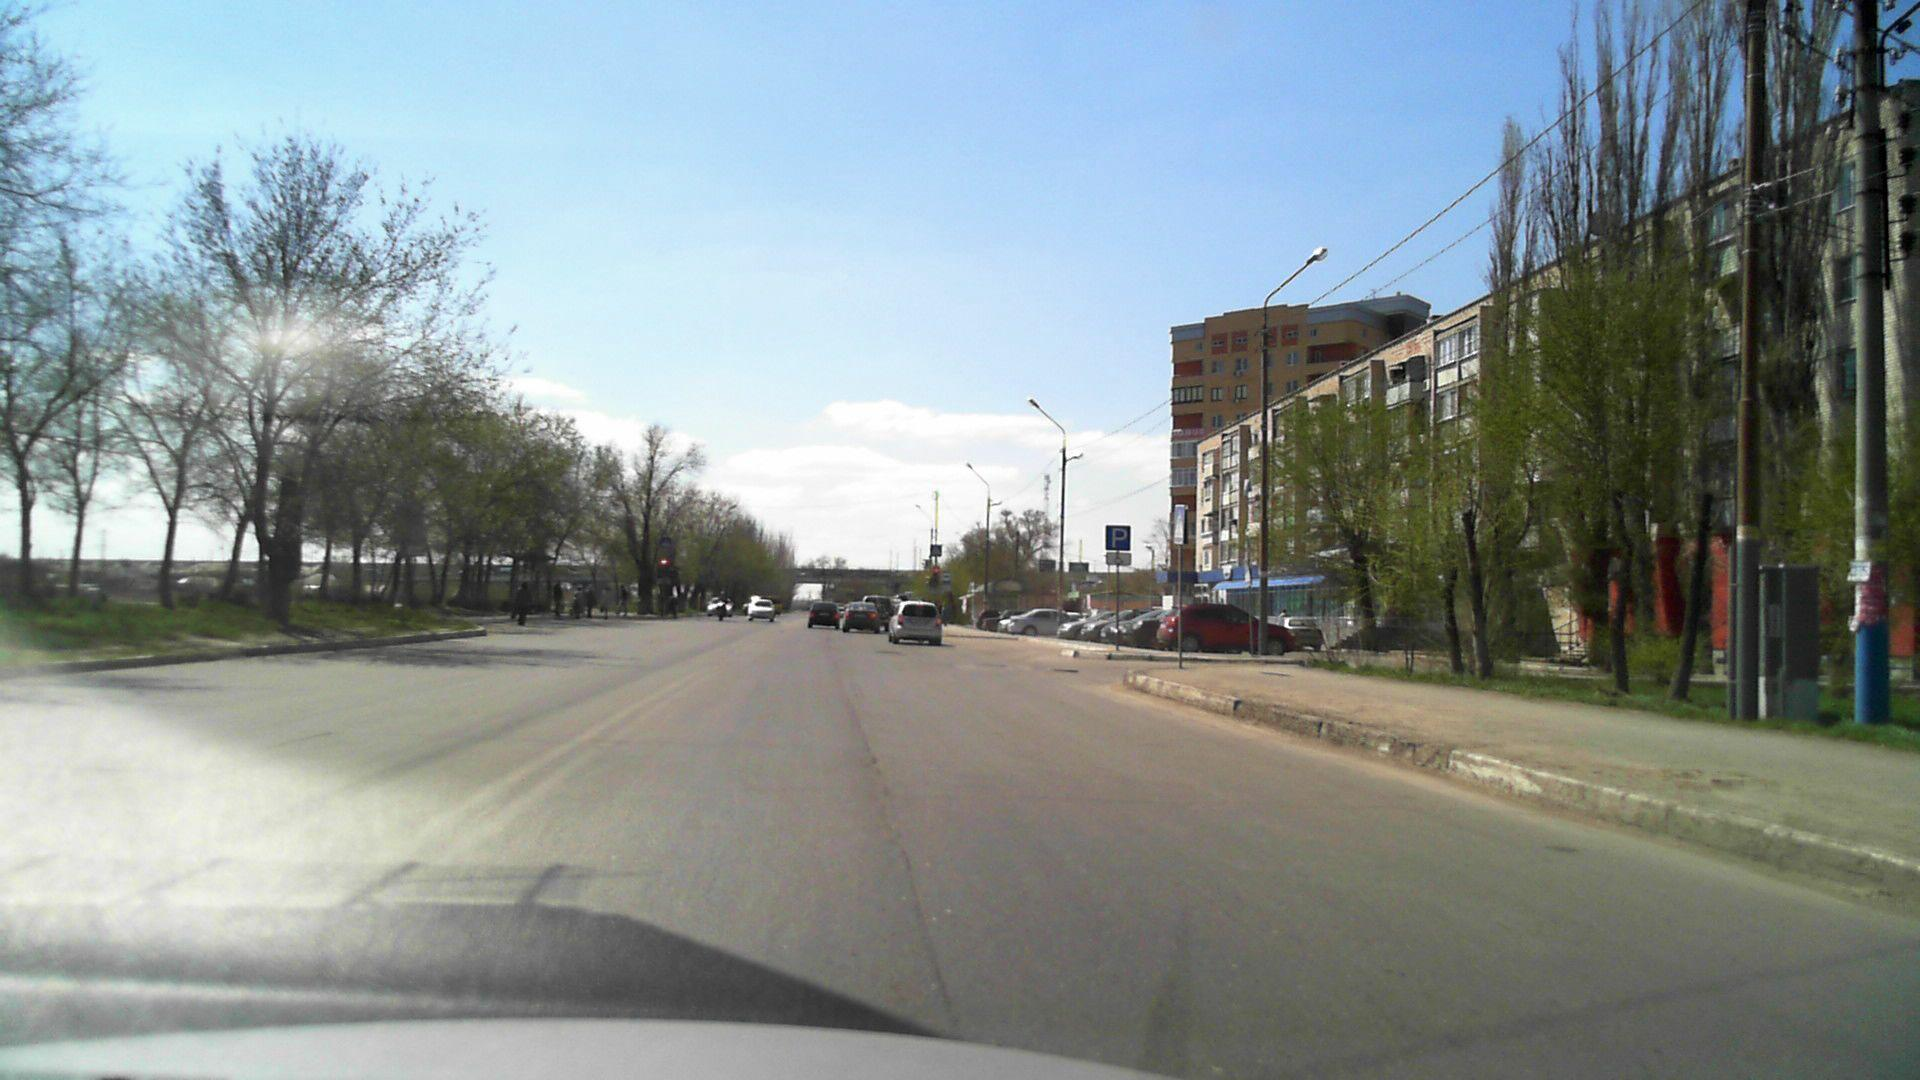5_16: (943, 570, 952, 585)
5_19_1: (1172, 505, 1187, 543), (931, 545, 942, 555)
5_19_2: (659, 537, 673, 551)
6_4: (1104, 525, 1130, 549)
8_17: (1105, 551, 1130, 564)
